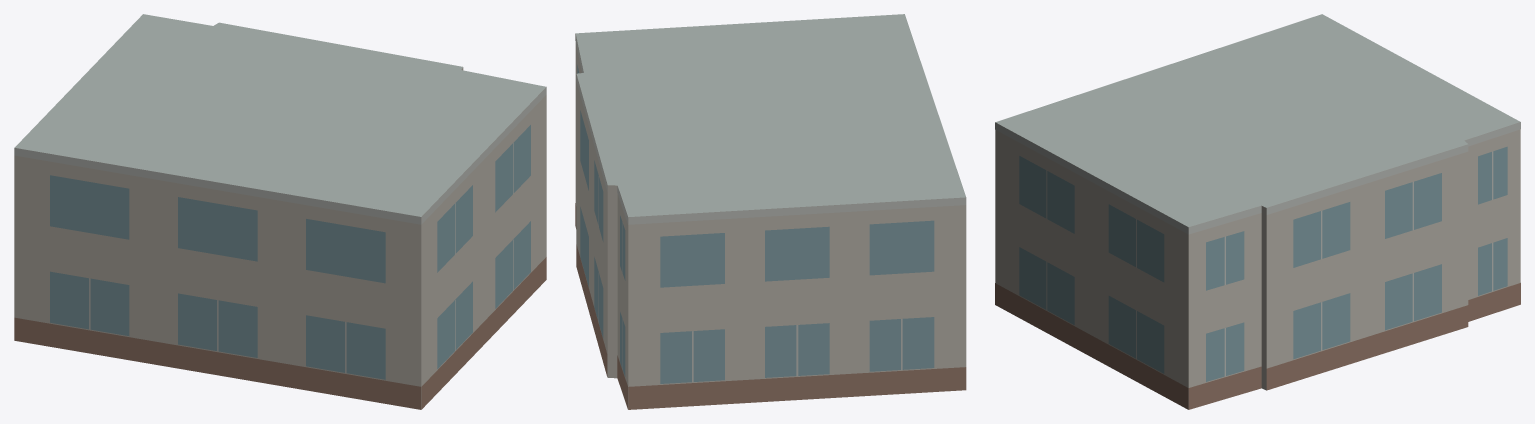
Rendered from survey-upis-32606064.glb.
3 views of the same model, side by side, from view 1: azimuth 30°, elevation 25°; view 2: azimuth 150°, elevation 25°; view 3: azimuth 270°, elevation 25° (orthographic). The views are drawn at different scales.
Parts seen in each view (by area): view 1: survey-upis-32606064.tmp; view 2: survey-upis-32606064.tmp; view 3: survey-upis-32606064.tmp.
Boxes of the visible parts, left/top/right/bottom form: survey-upis-32606064.tmp: left=14, top=14, right=546, bottom=409; survey-upis-32606064.tmp: left=575, top=14, right=966, bottom=409; survey-upis-32606064.tmp: left=995, top=14, right=1520, bottom=409.
Bounding box in the file's own units: 15.28 × 6.1 × 15.92.
